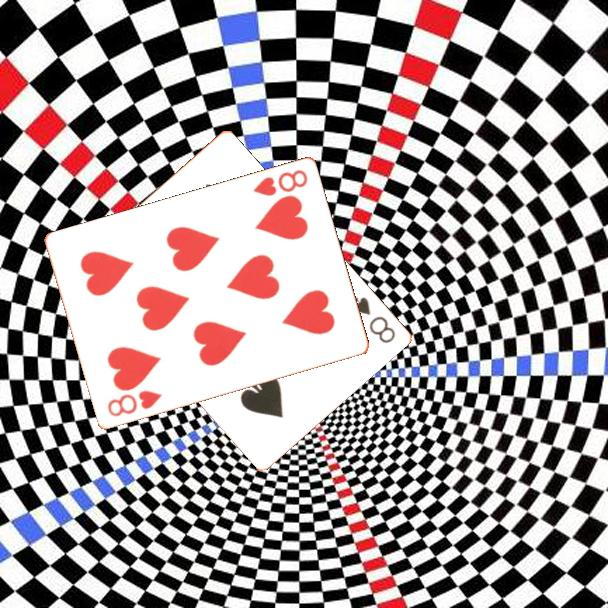h08: (249, 166, 310, 199), (104, 387, 164, 420)
s08: (349, 293, 398, 346)
